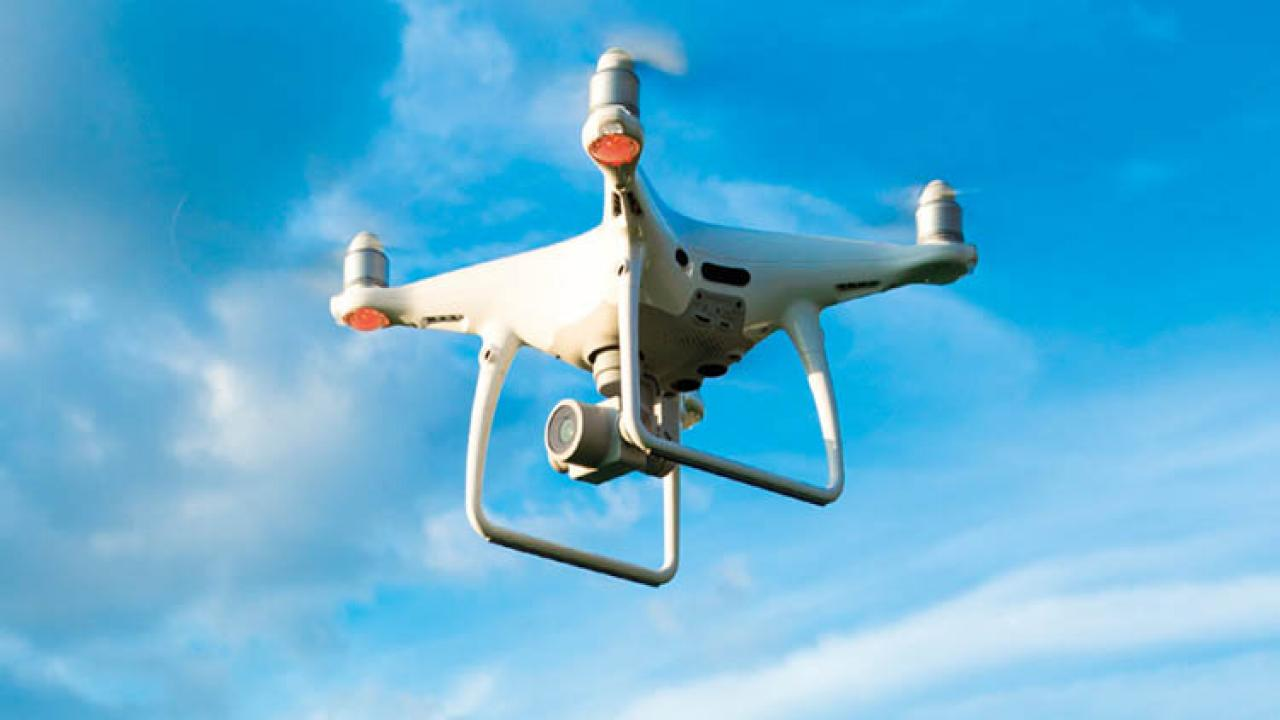Drone: (170, 0, 1060, 594)
